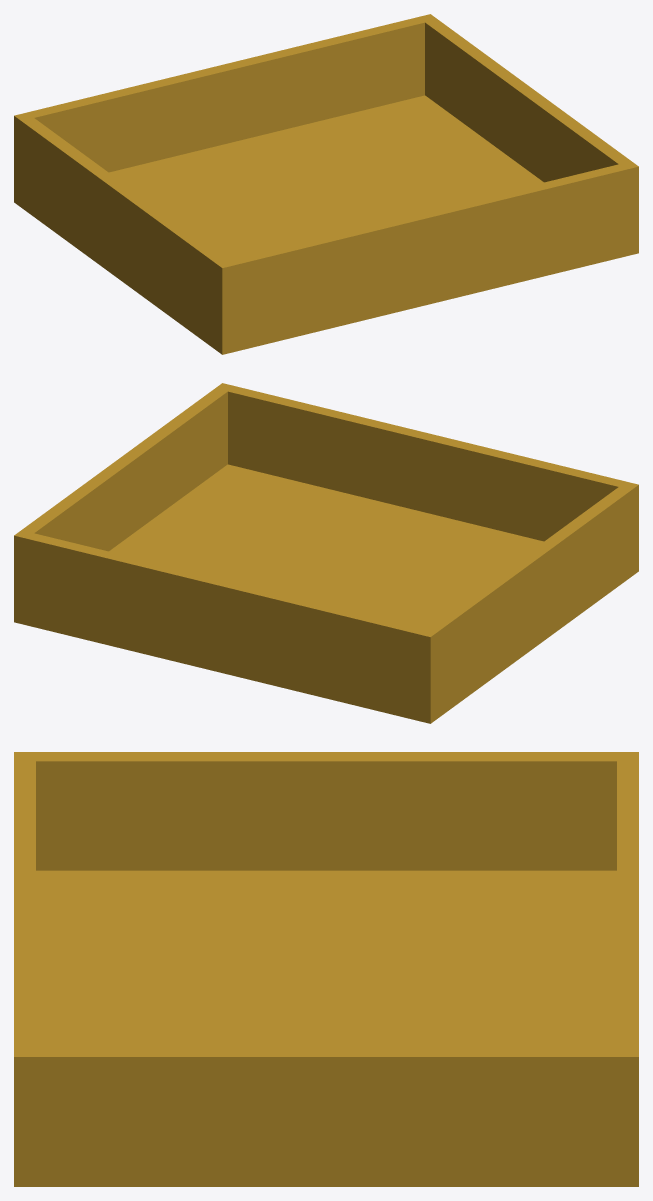
File: SM_metal_plate_02.fbx
3 views of the same model, one above another, from view 1: azimuth 30°, elevation 25°; view 2: azimuth 150°, elevation 25°; view 3: azimuth 270°, elevation 25° (orthographic). The views are drawn at different scales.
Parts seen in each view (by area): view 1: Box480; view 2: Box480; view 3: Box480.
Boxes of the visible parts, bbox=[...] form: Box480: bbox=[14, 14, 638, 354]; Box480: bbox=[14, 383, 638, 723]; Box480: bbox=[14, 752, 638, 1186].
Bounding box in the file's own units: 17.32 × 3.45 × 15.01.
